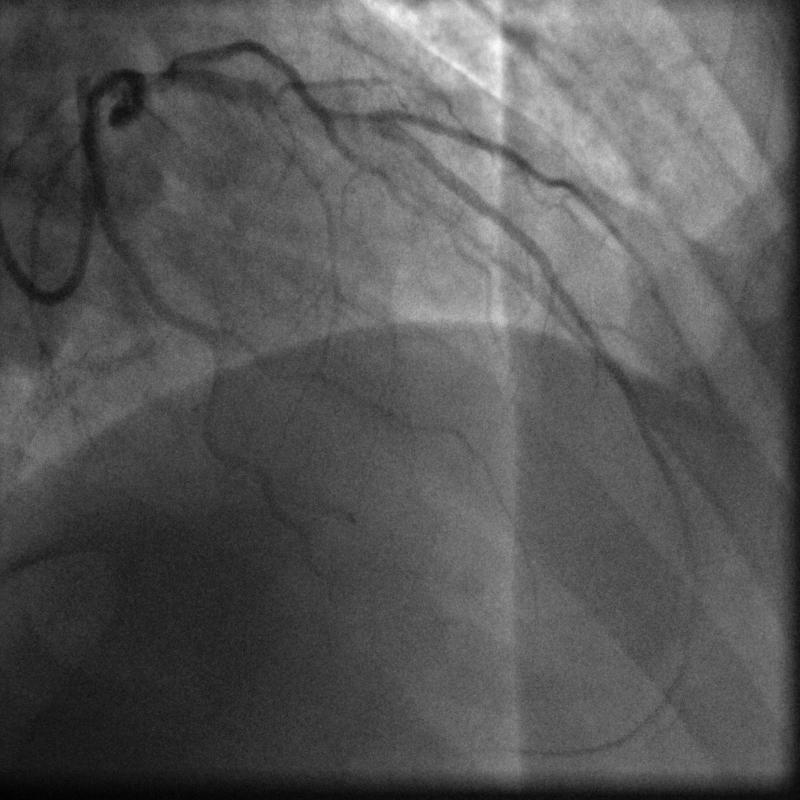Stenosis: (232, 78, 343, 116)
